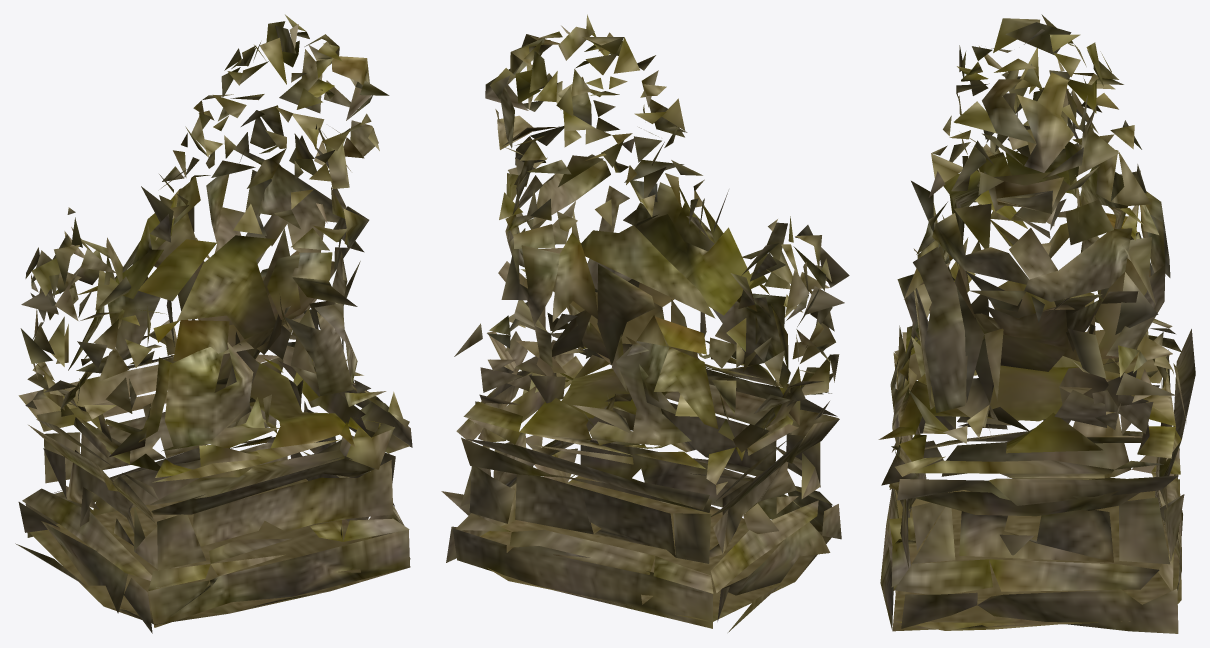
Rendered from estatua_lod2.glb.
3 renders of one model, left to right at view 1: azimuth 30°, elevation 25°; view 2: azimuth 150°, elevation 25°; view 3: azimuth 270°, elevation 25°, orthographic. The views are drawn at different scales.
Parts seen in each view (by area): view 1: estatua; view 2: estatua; view 3: estatua.
Part boxes in pixels (x1,y1,x2,y2): estatua: (15, 14, 412, 633); estatua: (441, 14, 849, 632); estatua: (878, 14, 1195, 633).
Size of the model in its own units: 1.6 by 2.23 by 1.09.
Materials: 1 (1 with a texture image).
